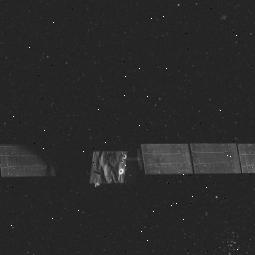smart_1: (4, 134, 255, 187)
